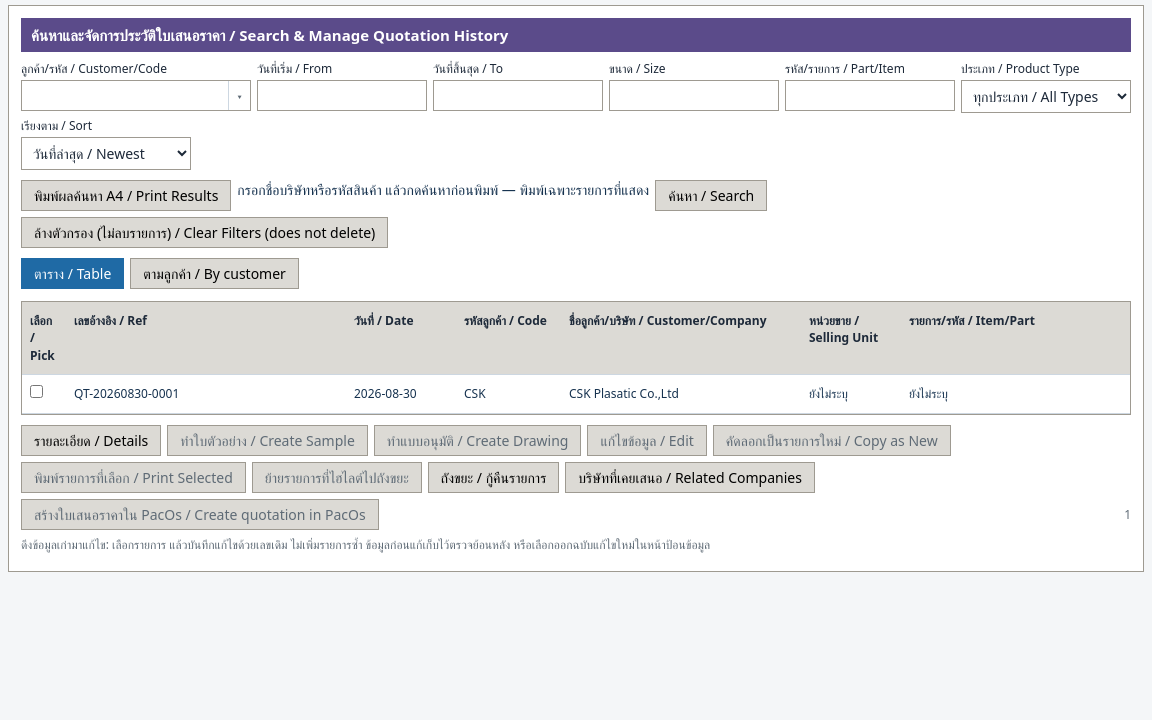
Test: deleting a quotation from history › sends the reason and the typed name, then closes
Step 1. Click the text "CSK Plasatic Co.,Ltd" → (681, 394), box [561,375,801,413]
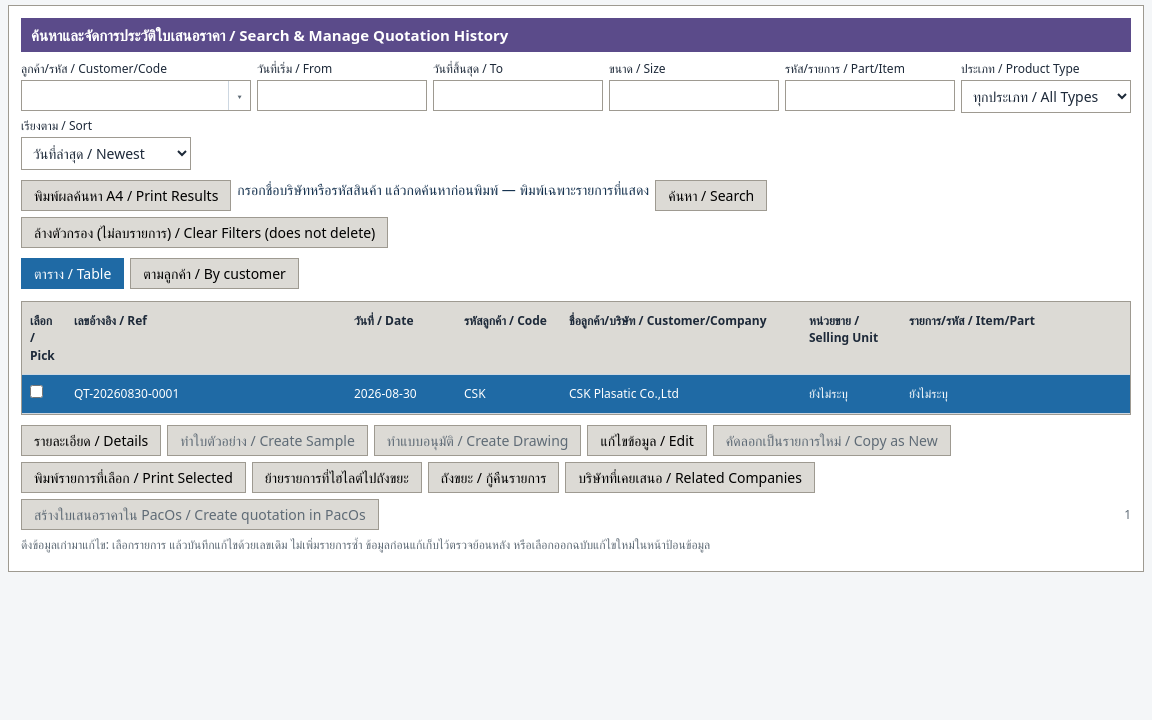
Step 2. Click the button "ย้ายรายการที่ไฮไลต์ไปถังขยะ" → (337, 477), box [252,462,422,493]
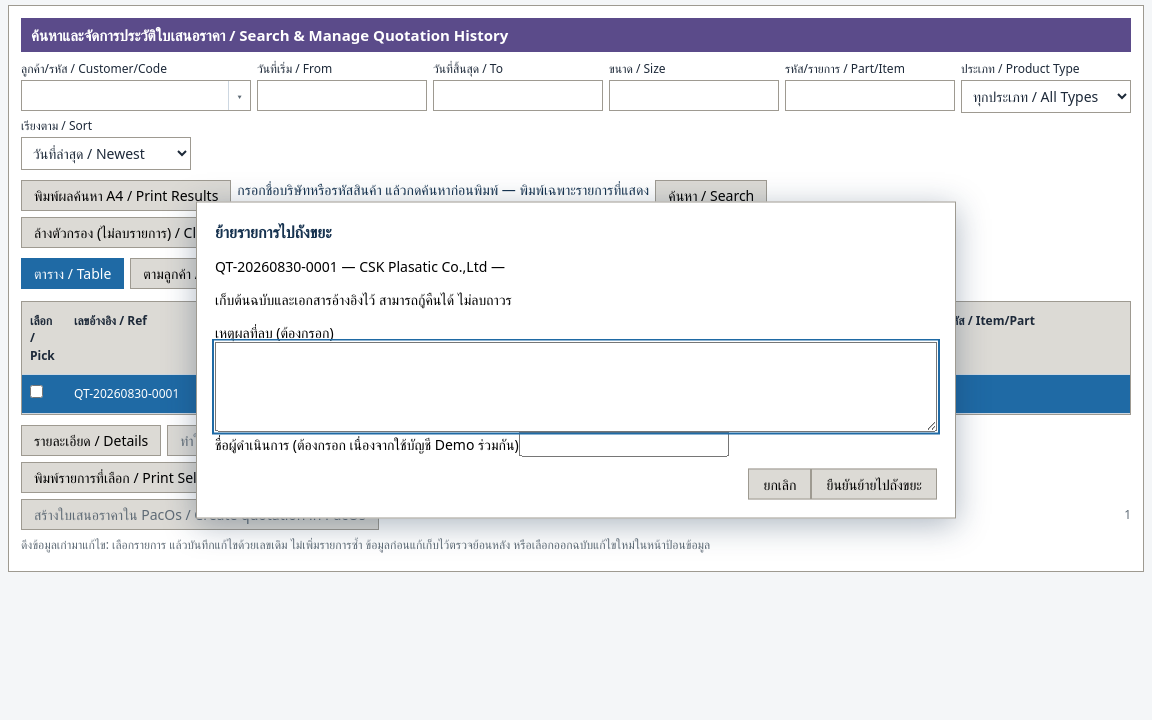
Step 3. Type "ราคาผิด" into the text box labelled "เหตุผลที่ลบ (ต้องกรอก)" → (576, 386), box [215,342,937,432]
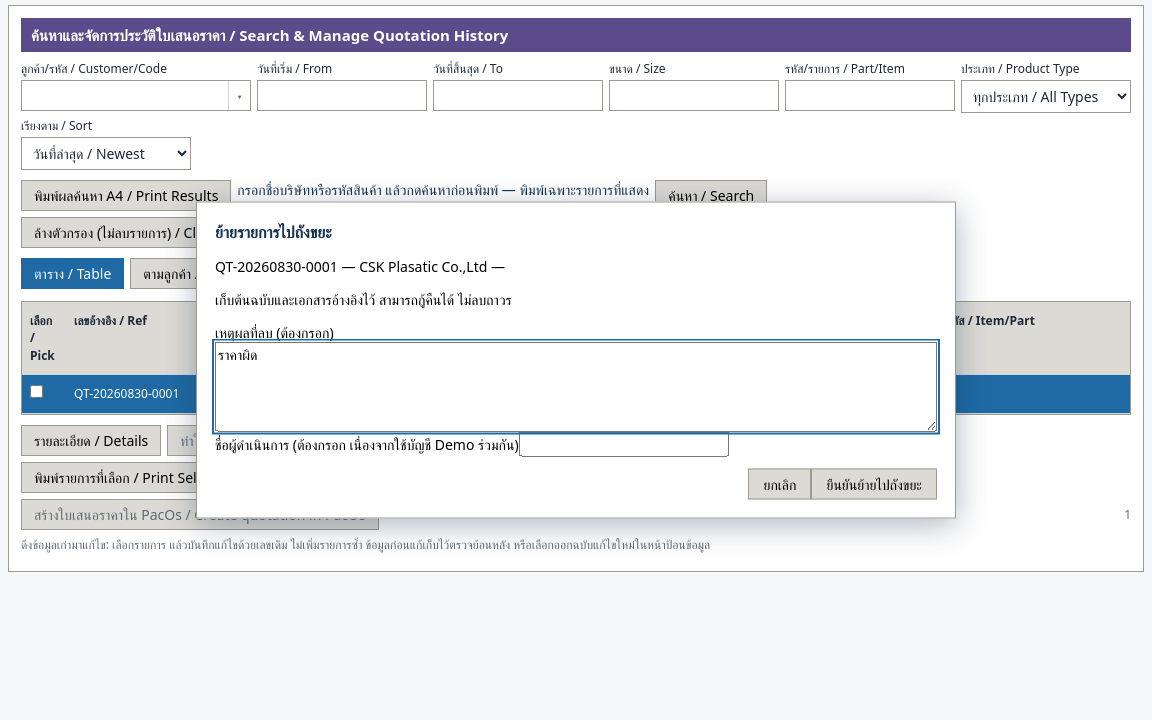
Step 4. Type "Somchai" into the field labelled "ชื่อผู้ดำเนินการ (ต้องกรอก เนื่องจากใช้บัญชี Demo ร่วมกัน)" → (624, 444), box [519,432,729,456]
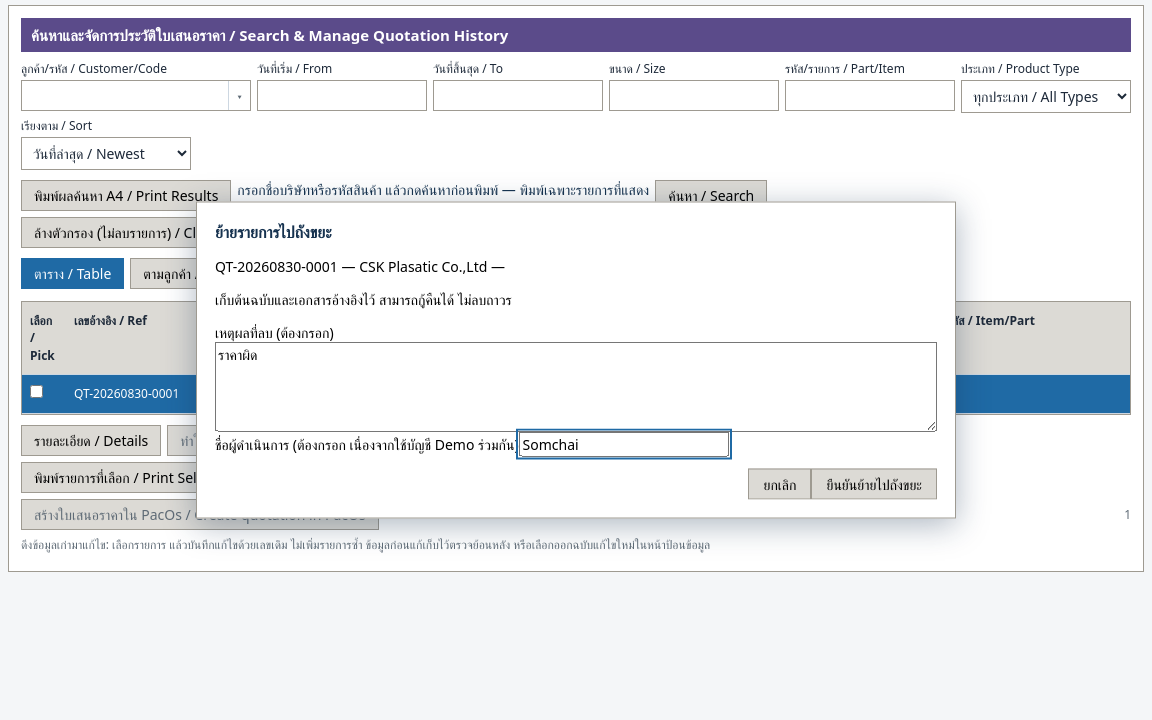
Step 5. Click the button "ยืนยันย้ายไปถังขยะ" → (874, 484), box [812,468,937,500]
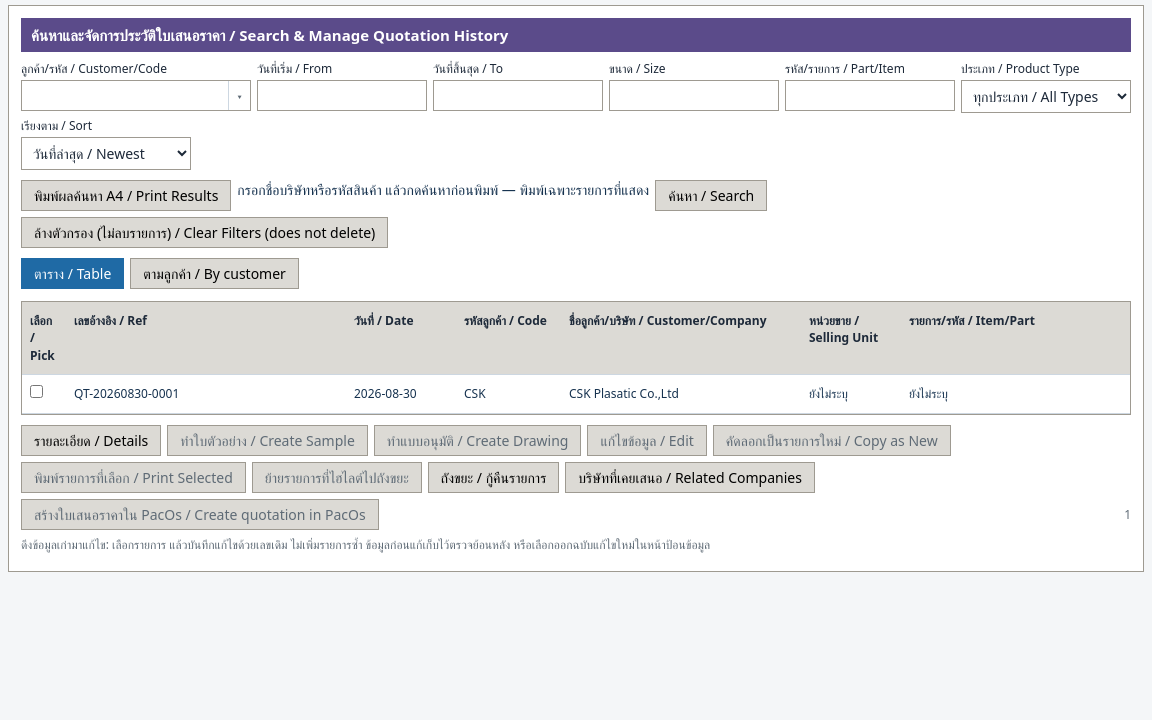
Result: the dialog "เหตุผลก่อนลบ" is gone
